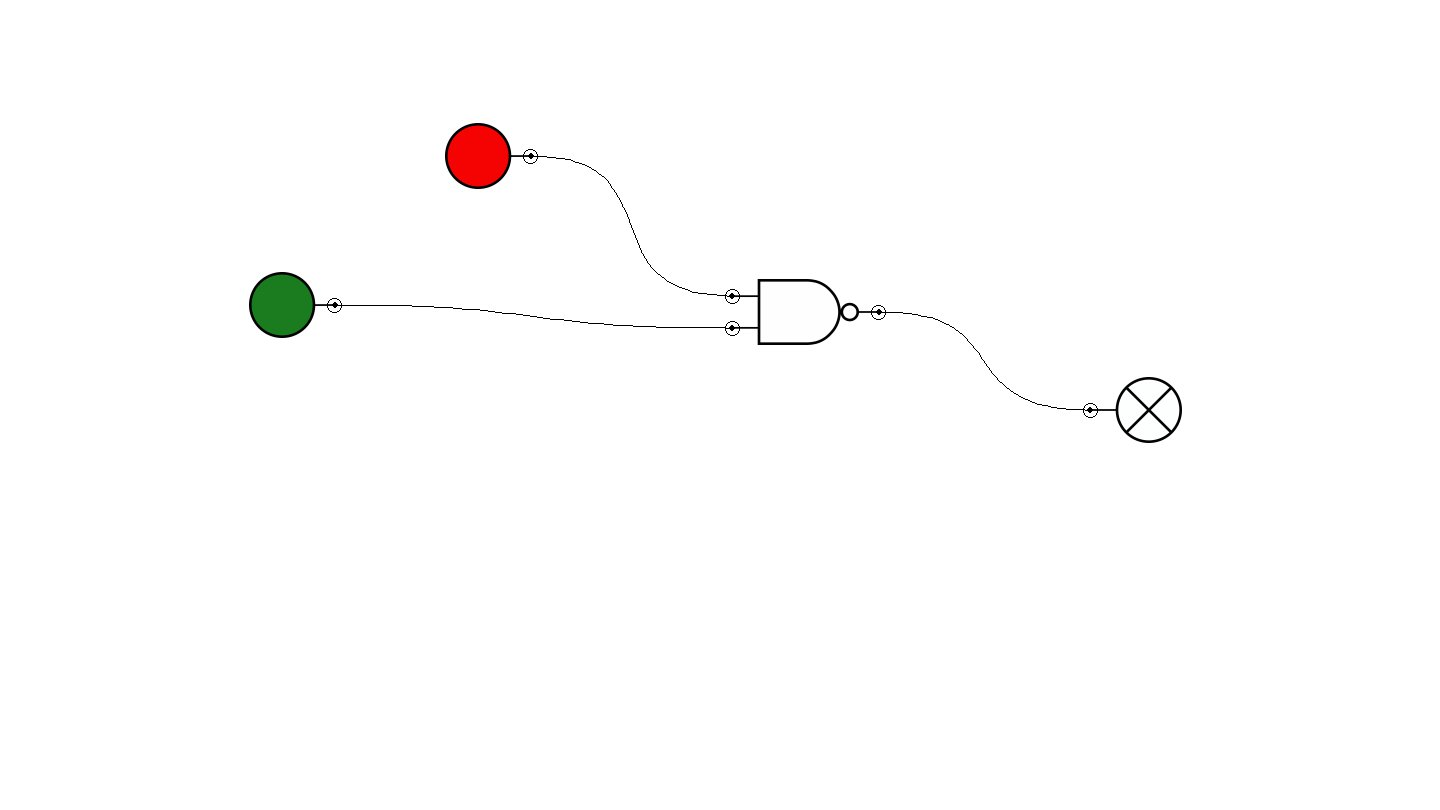bulb: (1083, 377, 1182, 443)
nand: (725, 279, 886, 345)
switch_False: (445, 123, 538, 189)
switch_True: (249, 272, 342, 338)
